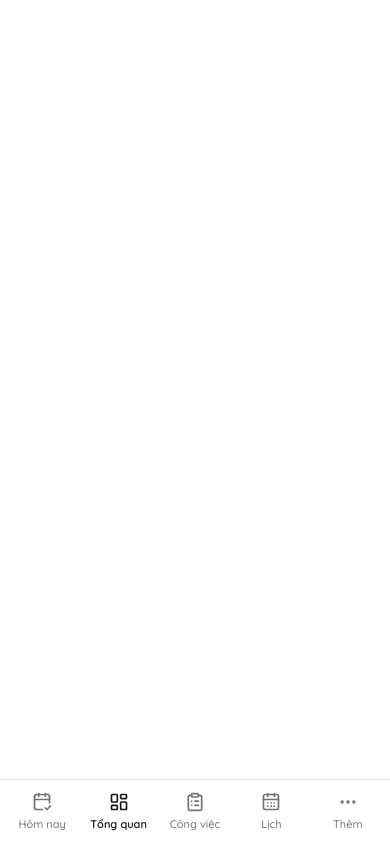
Test: MobileBottomNav Component › renders only User Management in More sheet for DEPUTY role
This screenshot has width=390, height=844.
Click the button "Thêm". click: (348, 812)
box: [310,780,386,843]
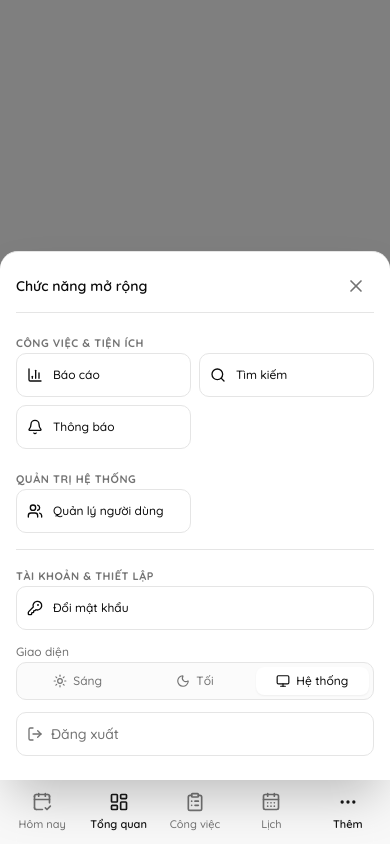
expect the link "Quản lý người dùng" is shown: met, box [16,489,191,533]
